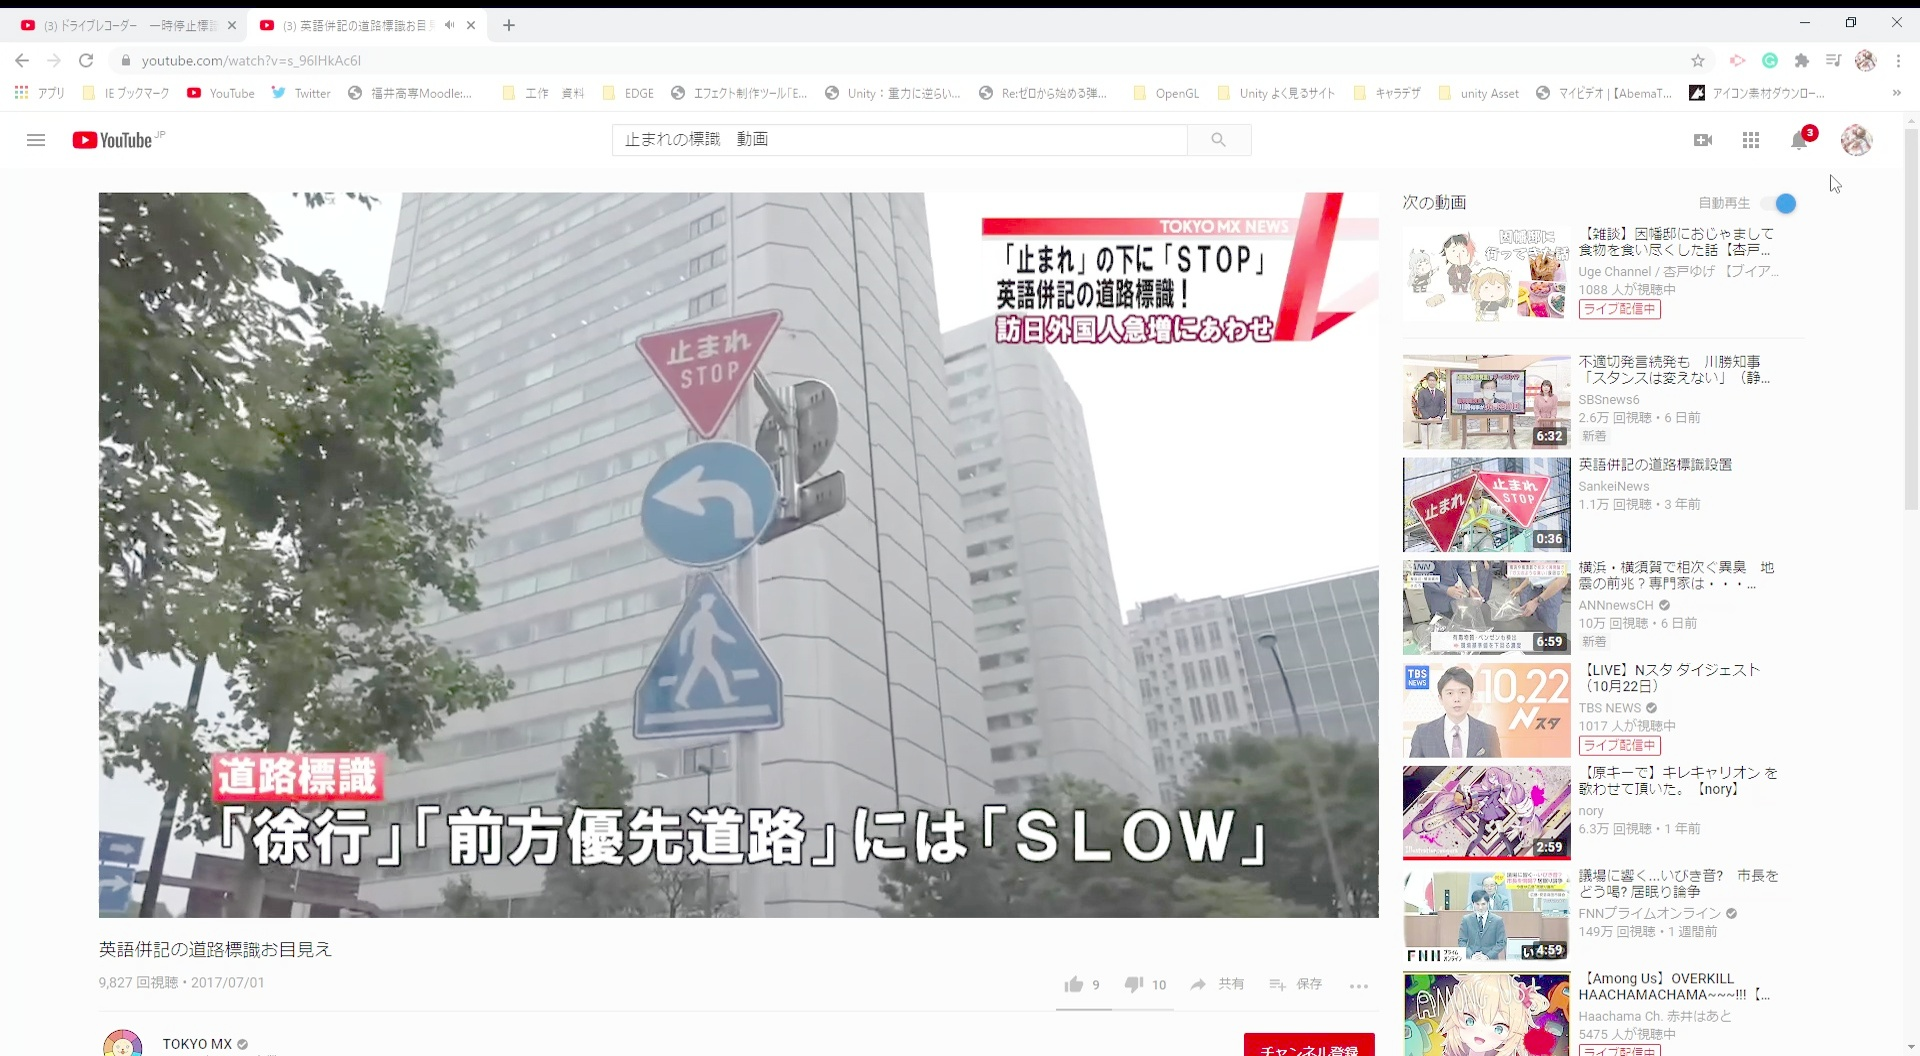Regulatory_sign_triangle: (624, 297, 807, 453)
